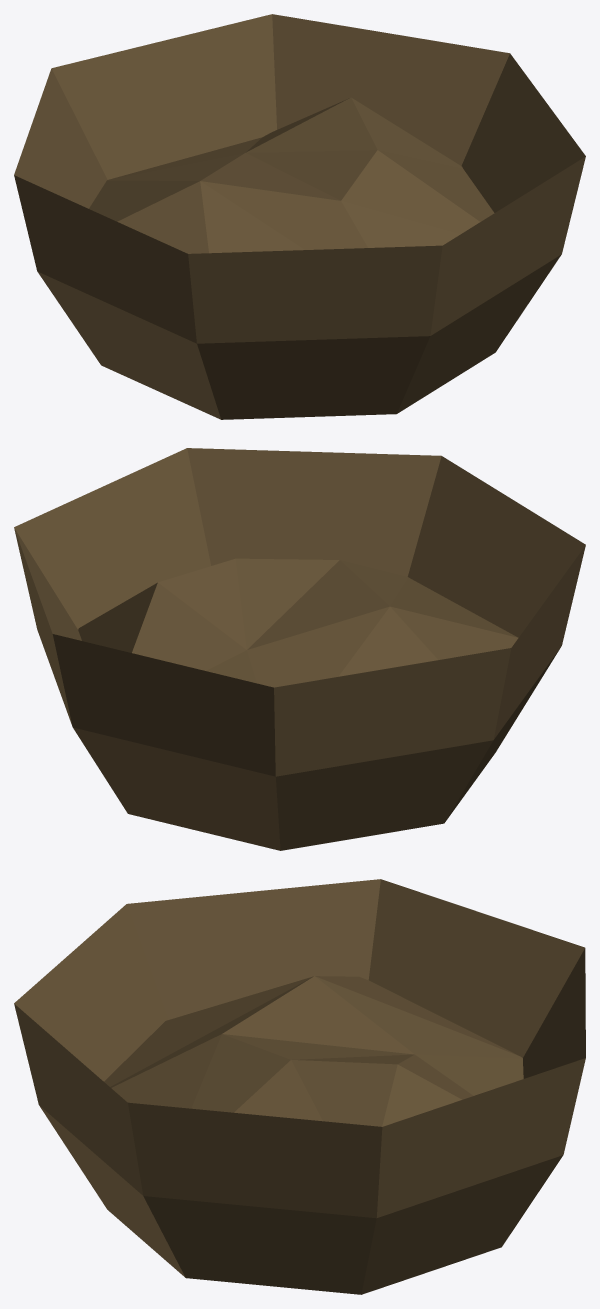
File: ITFO_STEW.OBJ
3 renders of one model, top to bottom at view 1: azimuth 30°, elevation 25°; view 2: azimuth 150°, elevation 25°; view 3: azimuth 270°, elevation 25°, orthographic. The views are drawn at different scales.
Visible parts, largest first — view 1: ITFO_STEW; view 2: ITFO_STEW; view 3: ITFO_STEW.
Boxes of the visible parts, bbox=[...] form: ITFO_STEW: bbox=[14, 14, 585, 419]; ITFO_STEW: bbox=[14, 448, 585, 850]; ITFO_STEW: bbox=[14, 879, 585, 1294].
Size of the model in its own units: 0.3219 by 0.1311 by 0.314.
